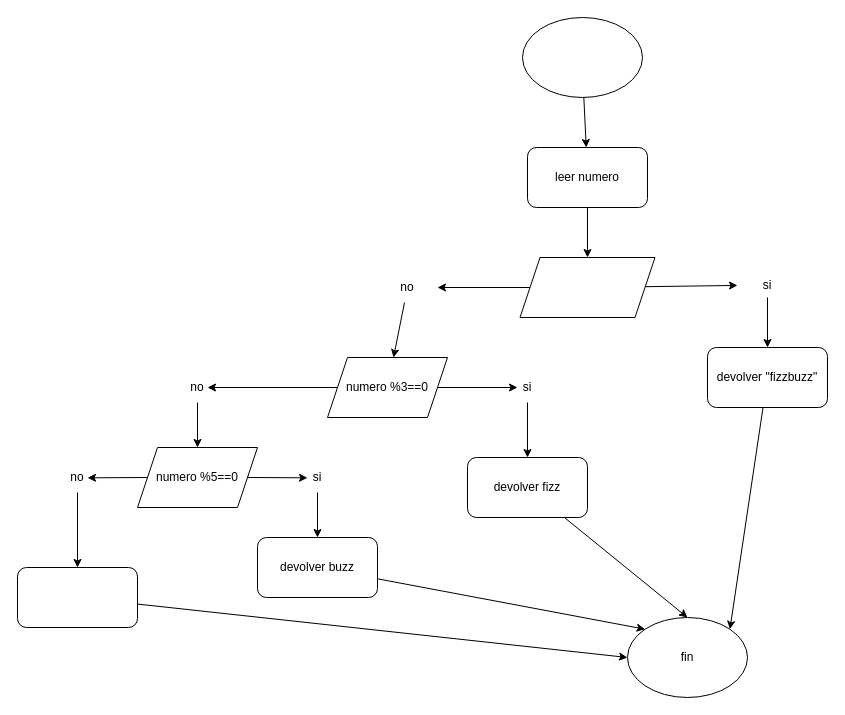
Some shapes in this 845 by 715 pixel diagram are drawn without their labels. Here are the shapes that lost their labels. From the top down, the centre of each, then its label:
At pixel 582 57: "inicio".
At pixel 587 287: "numero %3==0 y numero %5==0".
At pixel 77 597: "devolver numero".
